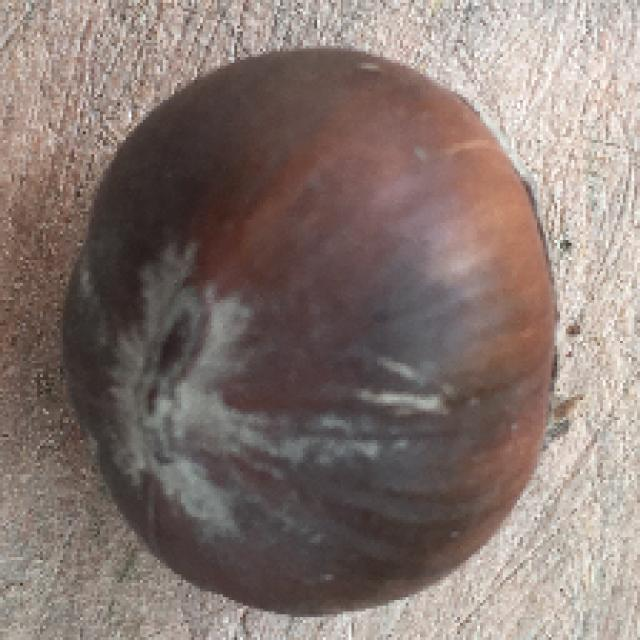damagedHazelnut: (64, 44, 574, 614)
